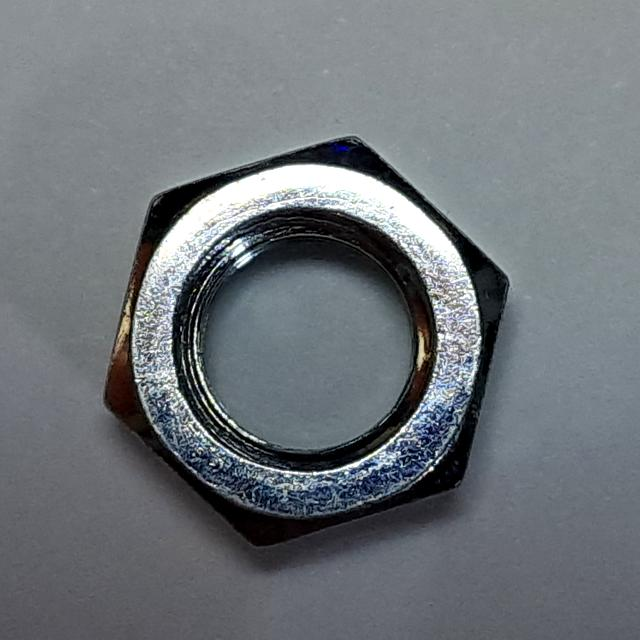Excellent: (81, 111, 534, 568)
